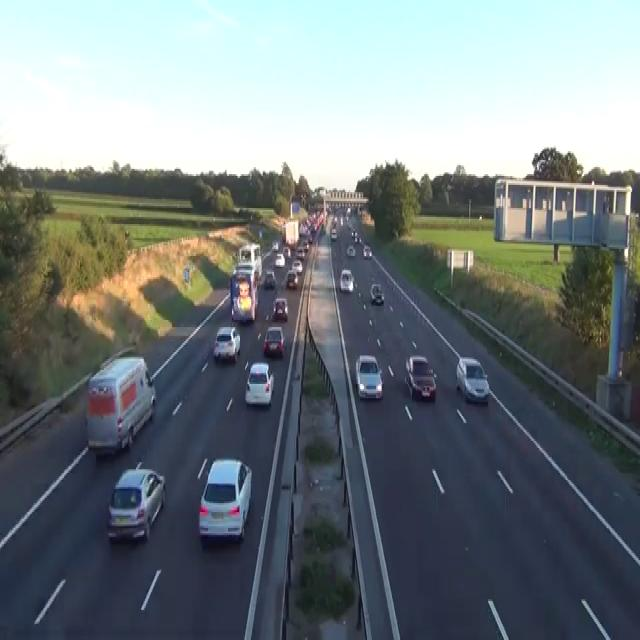Car: (106, 462, 166, 542), (198, 457, 252, 542), (455, 356, 490, 404), (404, 354, 436, 400), (244, 361, 274, 407), (355, 354, 383, 400), (213, 325, 240, 363), (263, 326, 286, 358), (272, 297, 288, 320), (339, 268, 354, 292), (370, 283, 384, 304), (285, 270, 298, 290), (264, 270, 276, 288), (274, 250, 285, 266), (291, 258, 302, 274), (427, 366, 437, 381), (282, 245, 291, 258), (363, 244, 371, 258), (296, 246, 304, 260), (346, 244, 355, 256), (301, 238, 308, 251), (330, 228, 337, 240), (271, 240, 278, 251), (354, 233, 361, 242), (307, 234, 312, 243), (340, 215, 343, 226), (351, 228, 355, 236)
Truck: (85, 354, 156, 455), (229, 242, 262, 322), (282, 219, 299, 249)
